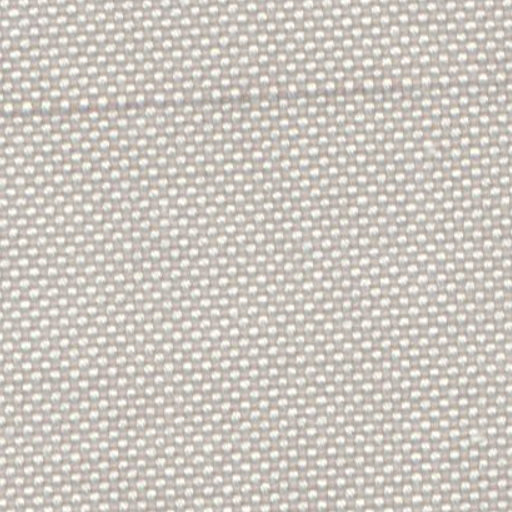TuoSha: (13, 62, 497, 135)
